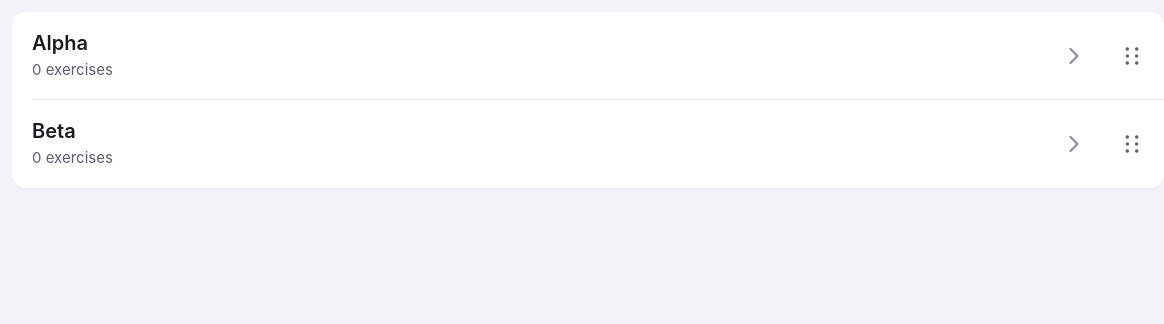
it: SessionList › disables the boundary menu items
Click the button named "Reorder Alpha" at point(1132, 56), box [1106,30,1158,82]
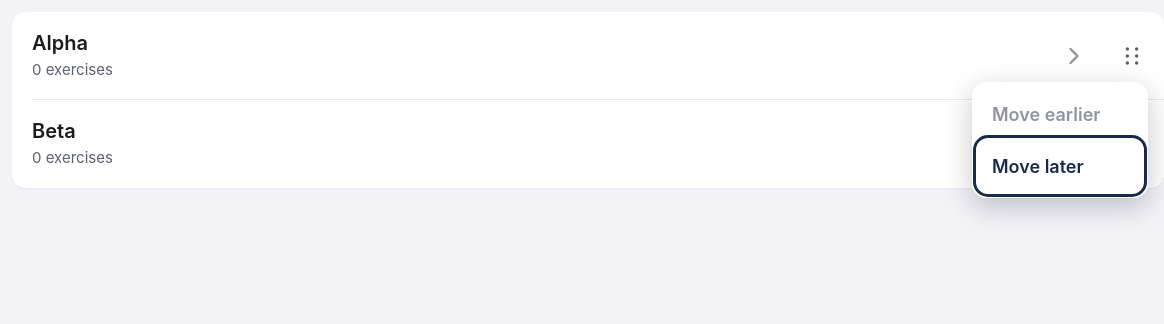
Expected: the menu item "Move earlier" is disabled, [978,88,1142,140]
Expected: the menu item "Move later" is enabled, [978,140,1142,192]
Press Escape
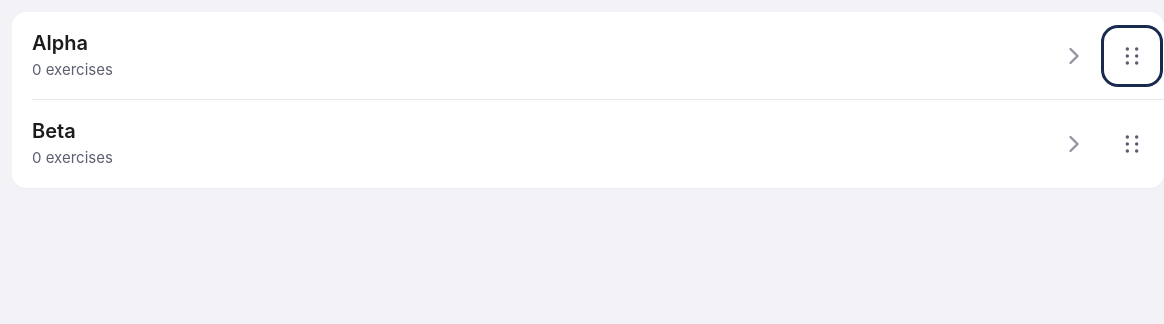
Click the button named "Reorder Beta" at point(1132, 144), box [1106,118,1158,170]
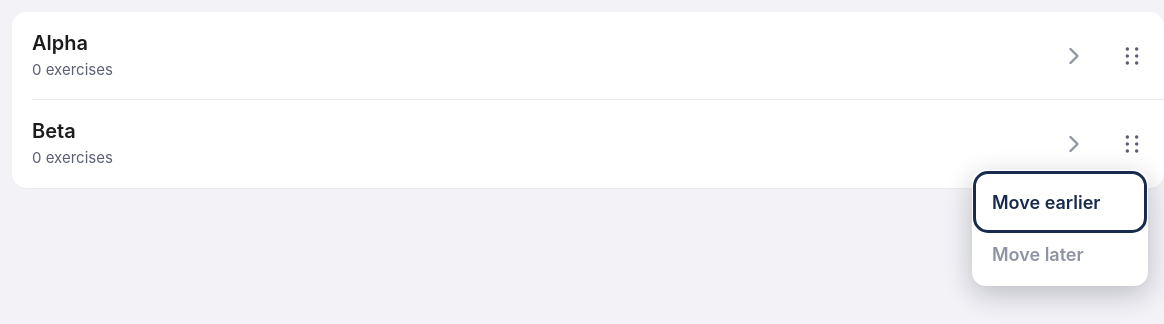
Expected: the menu item "Move later" is disabled, [978,228,1142,280]
